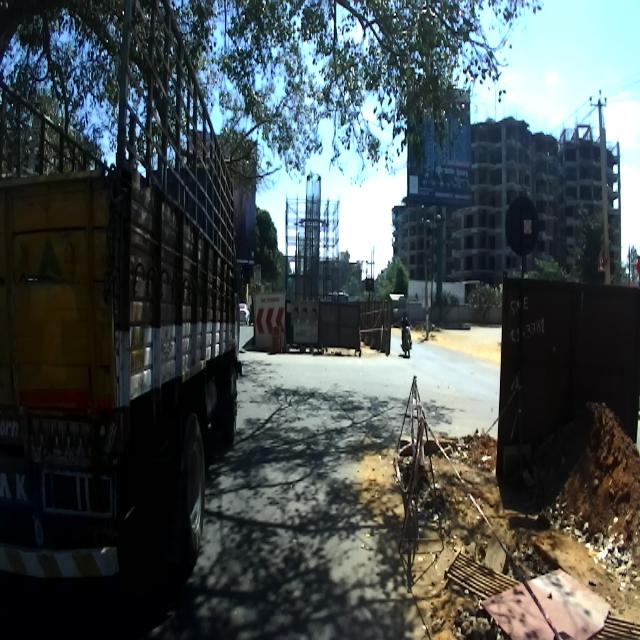barrier ahead at: (248, 292, 364, 362)
truck ahead at: (0, 3, 240, 634)
